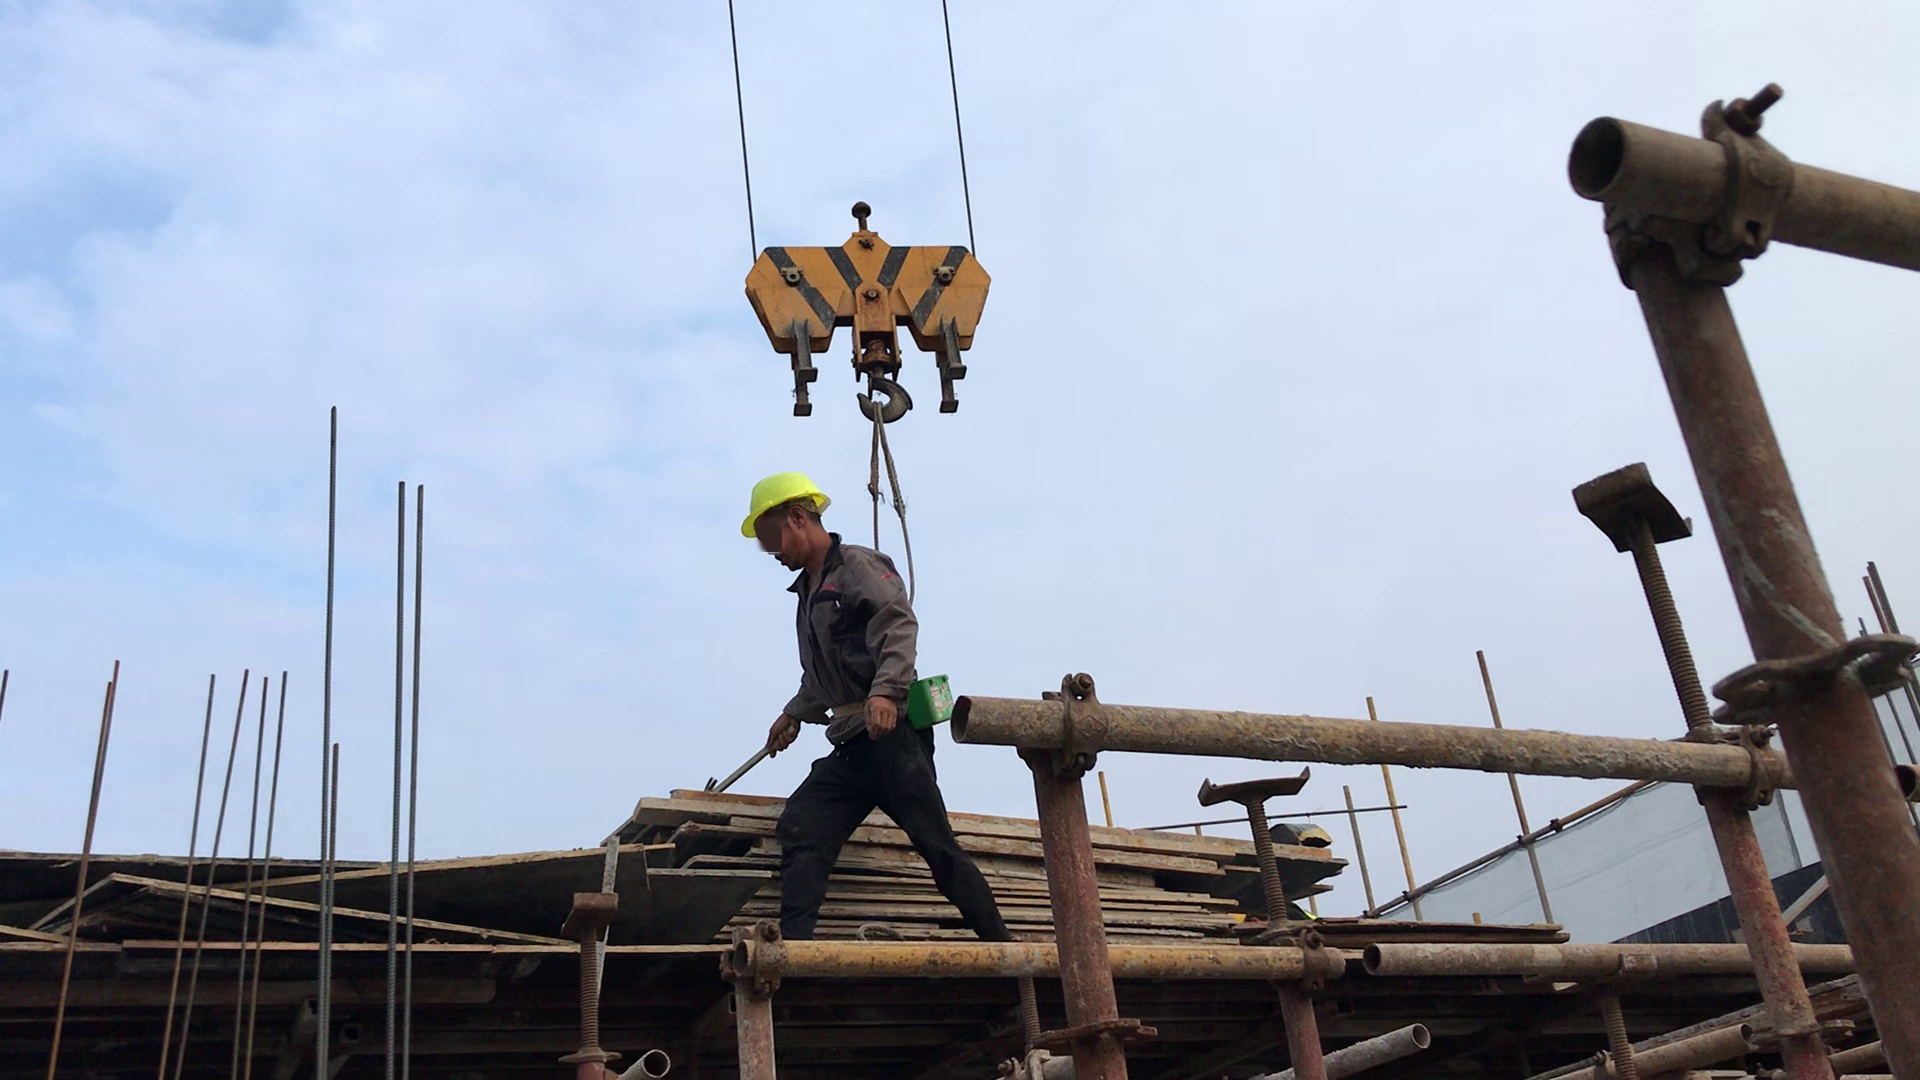helmet: (730, 478, 830, 538)
hook: (741, 190, 1001, 434)
person: (696, 461, 1030, 949)
